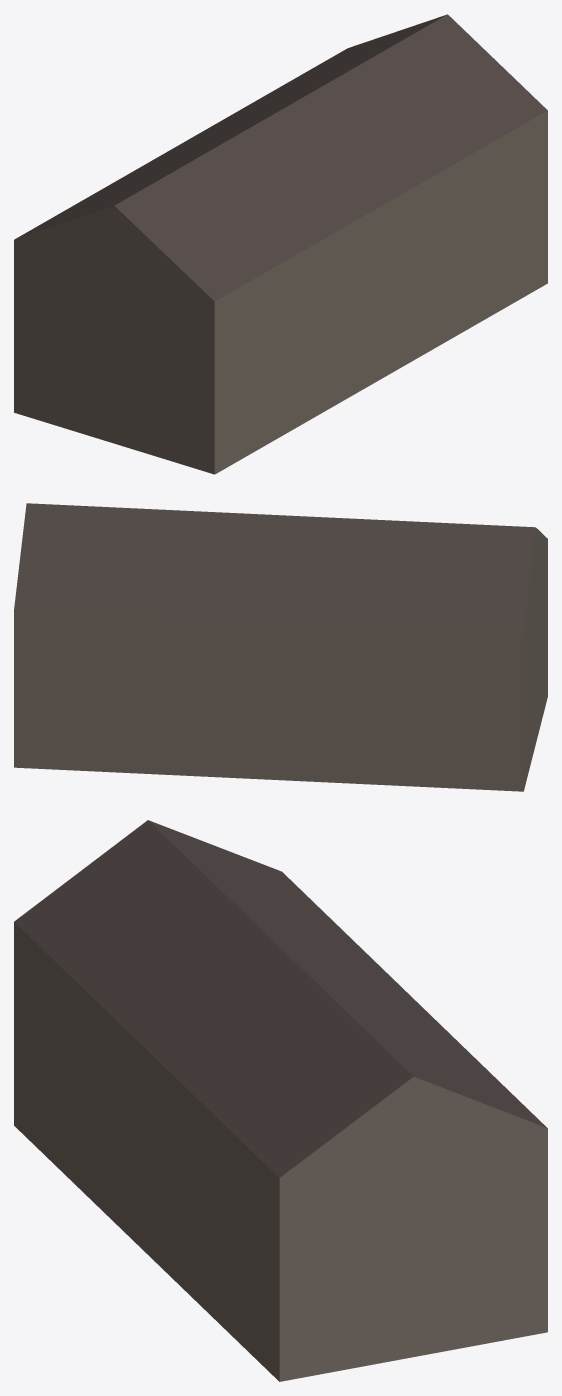
3 views of the same model, one above another, from view 1: azimuth 30°, elevation 25°; view 2: azimuth 150°, elevation 25°; view 3: azimuth 270°, elevation 25° (orthographic). The views are drawn at different scales.
Visible parts, largest first — view 1: HP-w1200742922; view 2: HP-w1200742922; view 3: HP-w1200742922.
Boxes of the visible parts, x1=… form: HP-w1200742922: x1=14, y1=14, x2=547, y2=474; HP-w1200742922: x1=14, y1=503, x2=547, y2=791; HP-w1200742922: x1=14, y1=820, x2=547, y2=1381.
Bounding box in the file's own units: 19.35 × 8.26 × 14.25.
